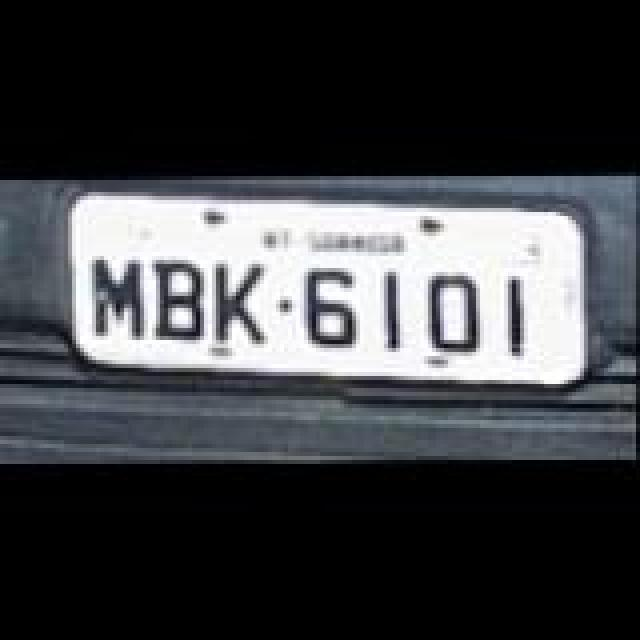1: (508, 272, 536, 352), (382, 270, 406, 350)
6: (300, 266, 360, 346)
B: (154, 256, 210, 340)
D: (424, 270, 484, 350)
K: (212, 260, 272, 344)
M: (94, 254, 150, 338)
